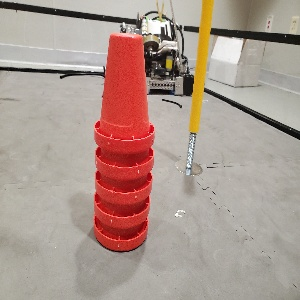Red_5: (94, 32, 154, 252)
